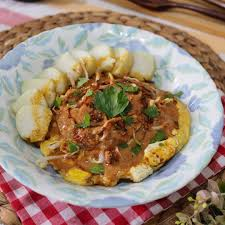Tahu telor: (12, 44, 189, 187)
